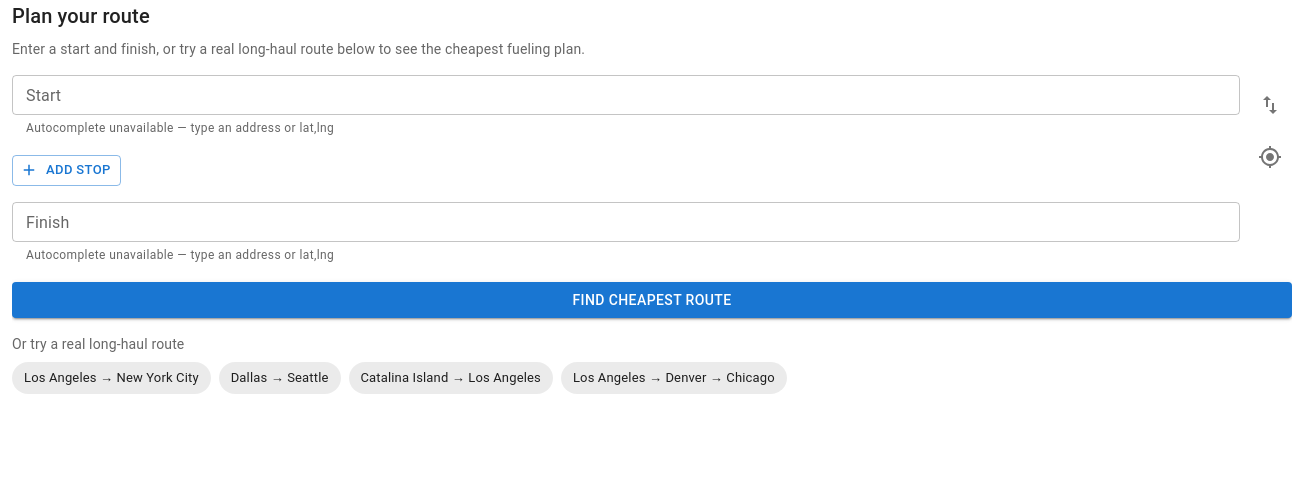
Scenario: "+ Add stop" inserts an intermediate row; remove deletes it
This screenshot has width=1304, height=491.
Click the button "Add stop": (66, 170) x1=12 y1=155 x2=121 y2=186
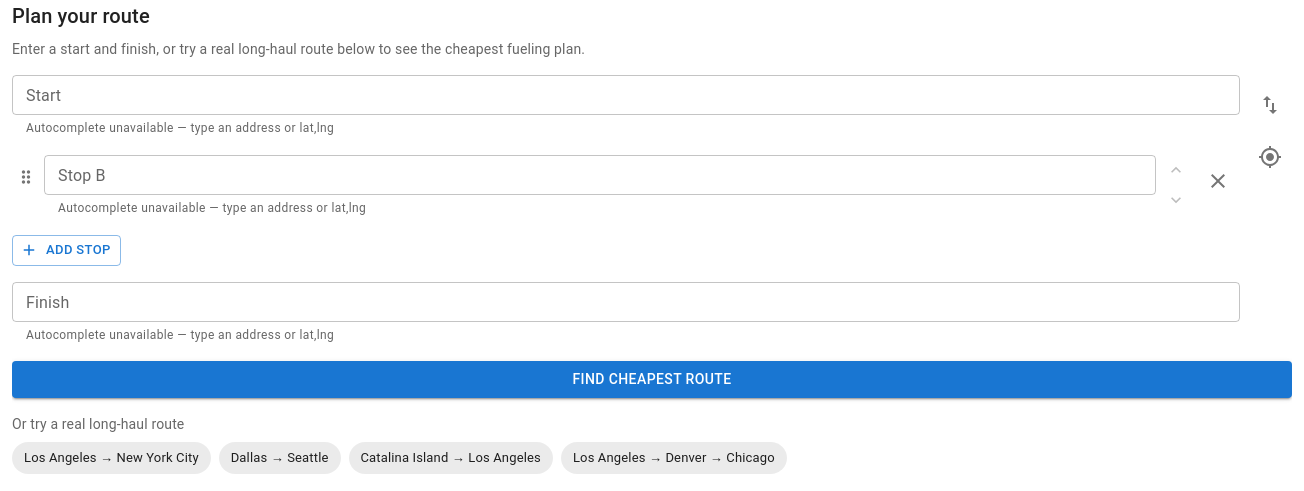
Now the dropdown labelled "Stop B" is shown, box x1=50 y1=161 x2=1147 y2=189
Click the button named "Remove stop B": (1218, 181) x1=1196 y1=159 x2=1240 y2=203
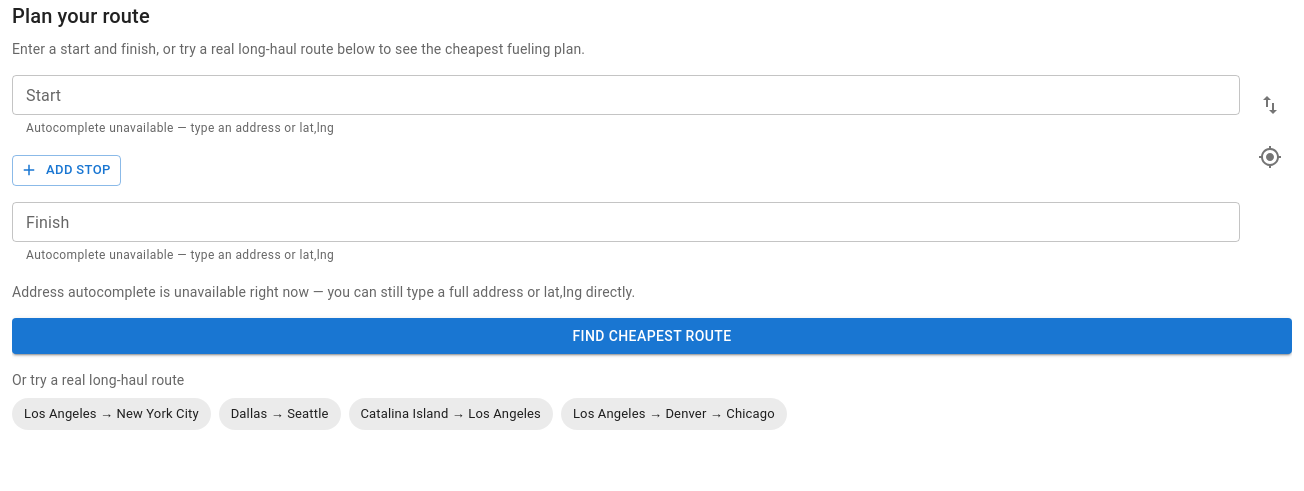
Now the label labelled "Stop B" is gone
